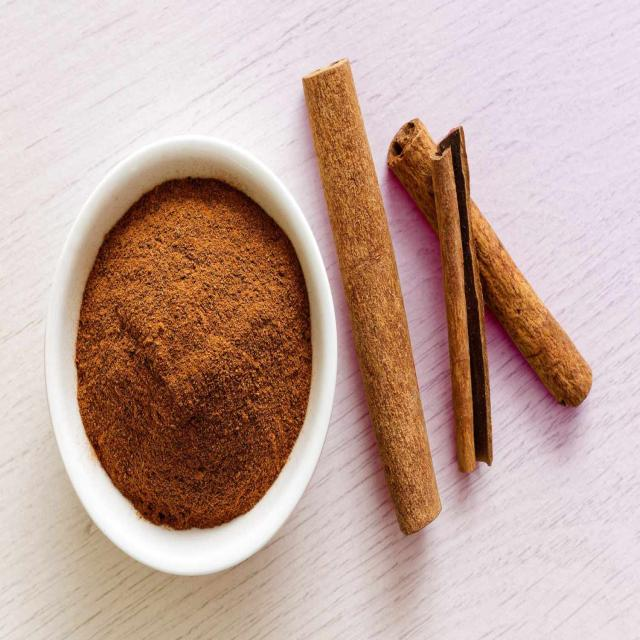Cinnamon: (304, 60, 441, 534), (470, 201, 592, 406), (431, 128, 492, 472), (388, 118, 438, 233)
